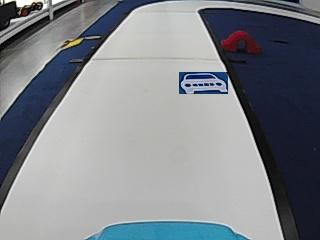bridge: (223, 28, 261, 53)
